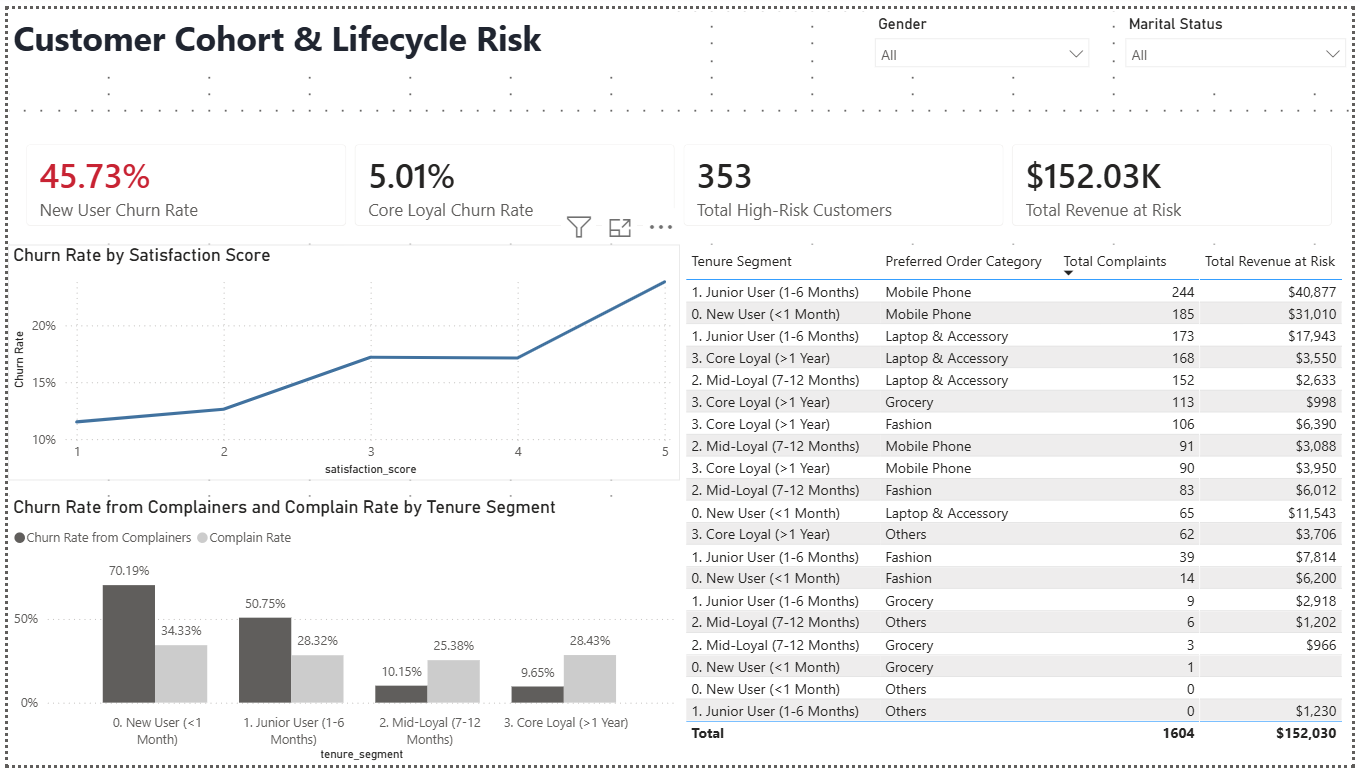

Layout of this report page (visuals, bound fields, positions):
{"tool":"powerbi","page":{"name":"Customer Cohort & Lifecycle Risk","canvas":[1280,720],"ordinal":2},"visuals":[{"type":"slicer","fields":{"Values":["Dim_Customer_Profile.marital_status"]},"box":[1055,0,230,72],"z":0},{"type":"slicer","fields":{"Values":["Dim_Customer_Profile.gender"]},"box":[816,0,224,64],"z":1000},{"type":"cardVisual","fields":{"Data":["_Key Metrics.New User Churn Rate","_Key Metrics.Core Loyal Churn Rate","_Key Metrics.Total High-Risk Customers","_Key Metrics.Total Revenue at Risk"]},"box":[0,112,1280,112],"z":2000},{"type":"lineChart","title":"Churn Rate by Satisfaction Score","fields":{"Y":["_Key Metrics.Churn Rate"],"Category":["Fact_Customer_Snapshot.satisfaction_score"]},"box":[0,224,640,224],"z":4000},{"type":"tableEx","fields":{"Values":["Dim_Customer_Profile.tenure_segment","Dim_Customer_Profile.preferred_order_category","Sum(Fact_Customer_Snapshot.complain_status_30d)","_Key Metrics.Total Revenue at Risk"]},"box":[640,224,640,496],"z":5000},{"type":"textbox","box":[0,0,631.4,64.3],"z":6000},{"type":"clusteredColumnChart","title":"Churn Rate from Complainers and Complain Rate by Tenure Segment","fields":{"Category":["Dim_Customer_Profile.tenure_segment"],"Y":["_Key Metrics.Churn Rate from Complainers","_Key Metrics.Complain Rate"]},"box":[0,464,640,256],"z":7000}]}

Visuals, with their boxes in screenshot pixels (x1, y1, x2, y2), scaled from the page's 1280x720 canvas onto the 1360x772 screenshot:
slicer - Dim_Customer_Profile.marital_status: l=1121, t=0, r=1359, b=77
slicer - Dim_Customer_Profile.gender: l=867, t=0, r=1105, b=69
cardVisual - _Key Metrics.New User Churn Rate x _Key Metrics.Core Loyal Churn Rate: l=0, t=120, r=1359, b=240
"Churn Rate by Satisfaction Score" lineChart: l=0, t=240, r=680, b=480
tableEx - Dim_Customer_Profile.tenure_segment x Dim_Customer_Profile.preferred_order_category: l=680, t=240, r=1359, b=771
textbox: l=0, t=0, r=671, b=69
"Churn Rate from Complainers and Complain Rate by Tenure Segment" clusteredColumnChart: l=0, t=498, r=680, b=771
